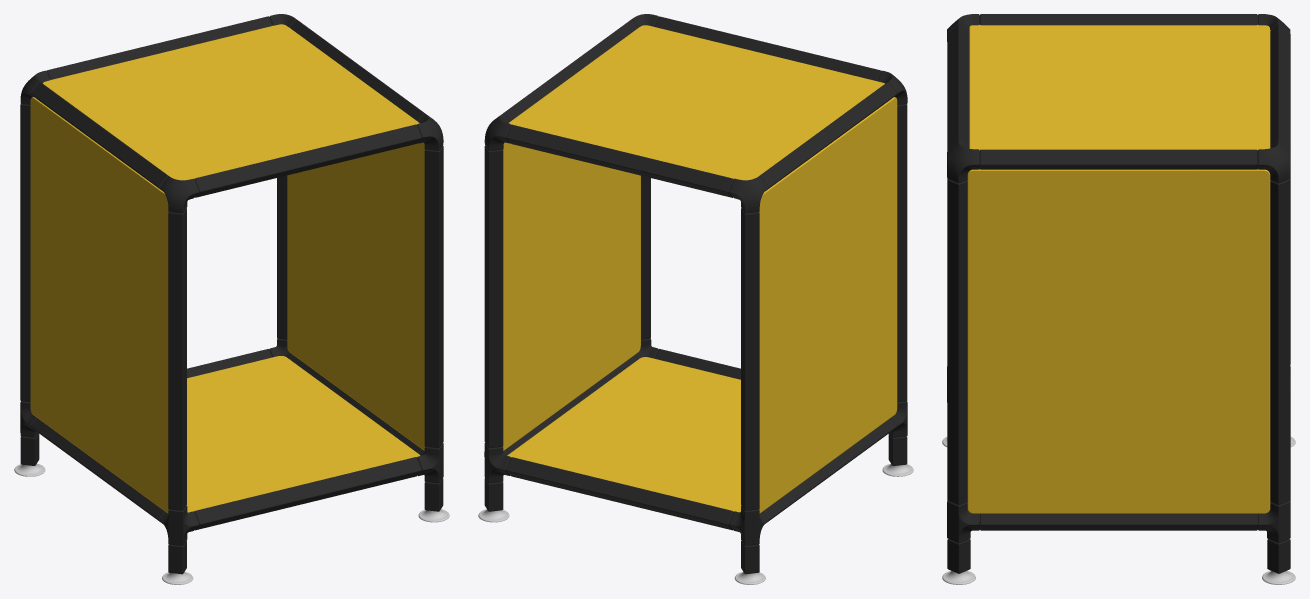
3 views of the same model, side by side, from view 1: azimuth 30°, elevation 25°; view 2: azimuth 150°, elevation 25°; view 3: azimuth 270°, elevation 25° (orthographic). The views are drawn at different scales.
Visible parts, largest first — view 1: 329x329x420; view 2: 329x329x420; view 3: 329x329x420.
Part boxes in pixels (box(x1,y1,x2,y2)): 329x329x420: box(14, 14, 449, 584); 329x329x420: box(478, 14, 913, 584); 329x329x420: box(942, 14, 1295, 584).
Bounding box in the file's own units: 0.4189 × 0.5593 × 0.4182.
